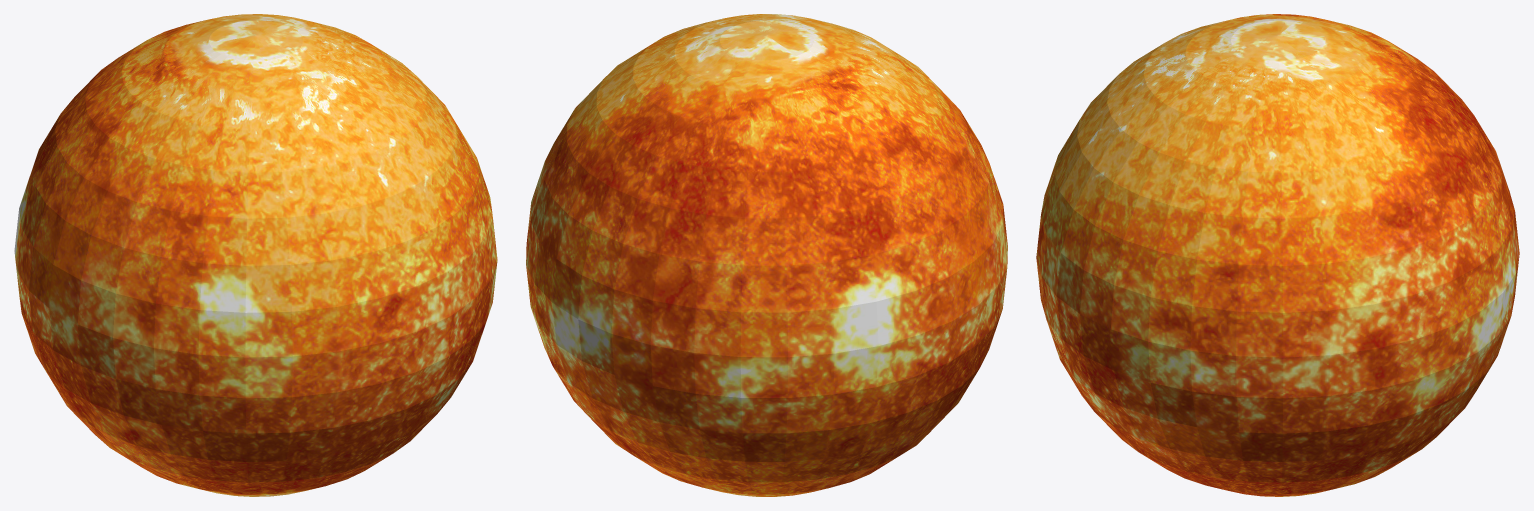
File: sun.obj
3 renders of one model, left to right at view 1: azimuth 30°, elevation 25°; view 2: azimuth 150°, elevation 25°; view 3: azimuth 270°, elevation 25°, orthographic.
Visible parts, largest first — view 1: Sphere; view 2: Sphere; view 3: Sphere.
Boxes of the visible parts, <box> form: Sphere: <box>14,14,497,496</box>; Sphere: <box>526,14,1007,496</box>; Sphere: <box>1036,14,1519,496</box>.
Size of the model in its own units: 3.4 by 3.42 by 3.4.
1 material, 1 textured.
